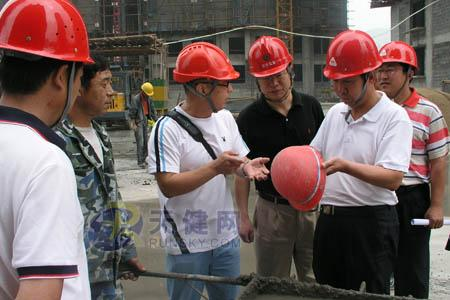helmet: (1, 1, 96, 64), (271, 148, 327, 211), (323, 31, 384, 79), (175, 43, 242, 83), (250, 37, 294, 78), (378, 42, 419, 71), (143, 83, 155, 97)
